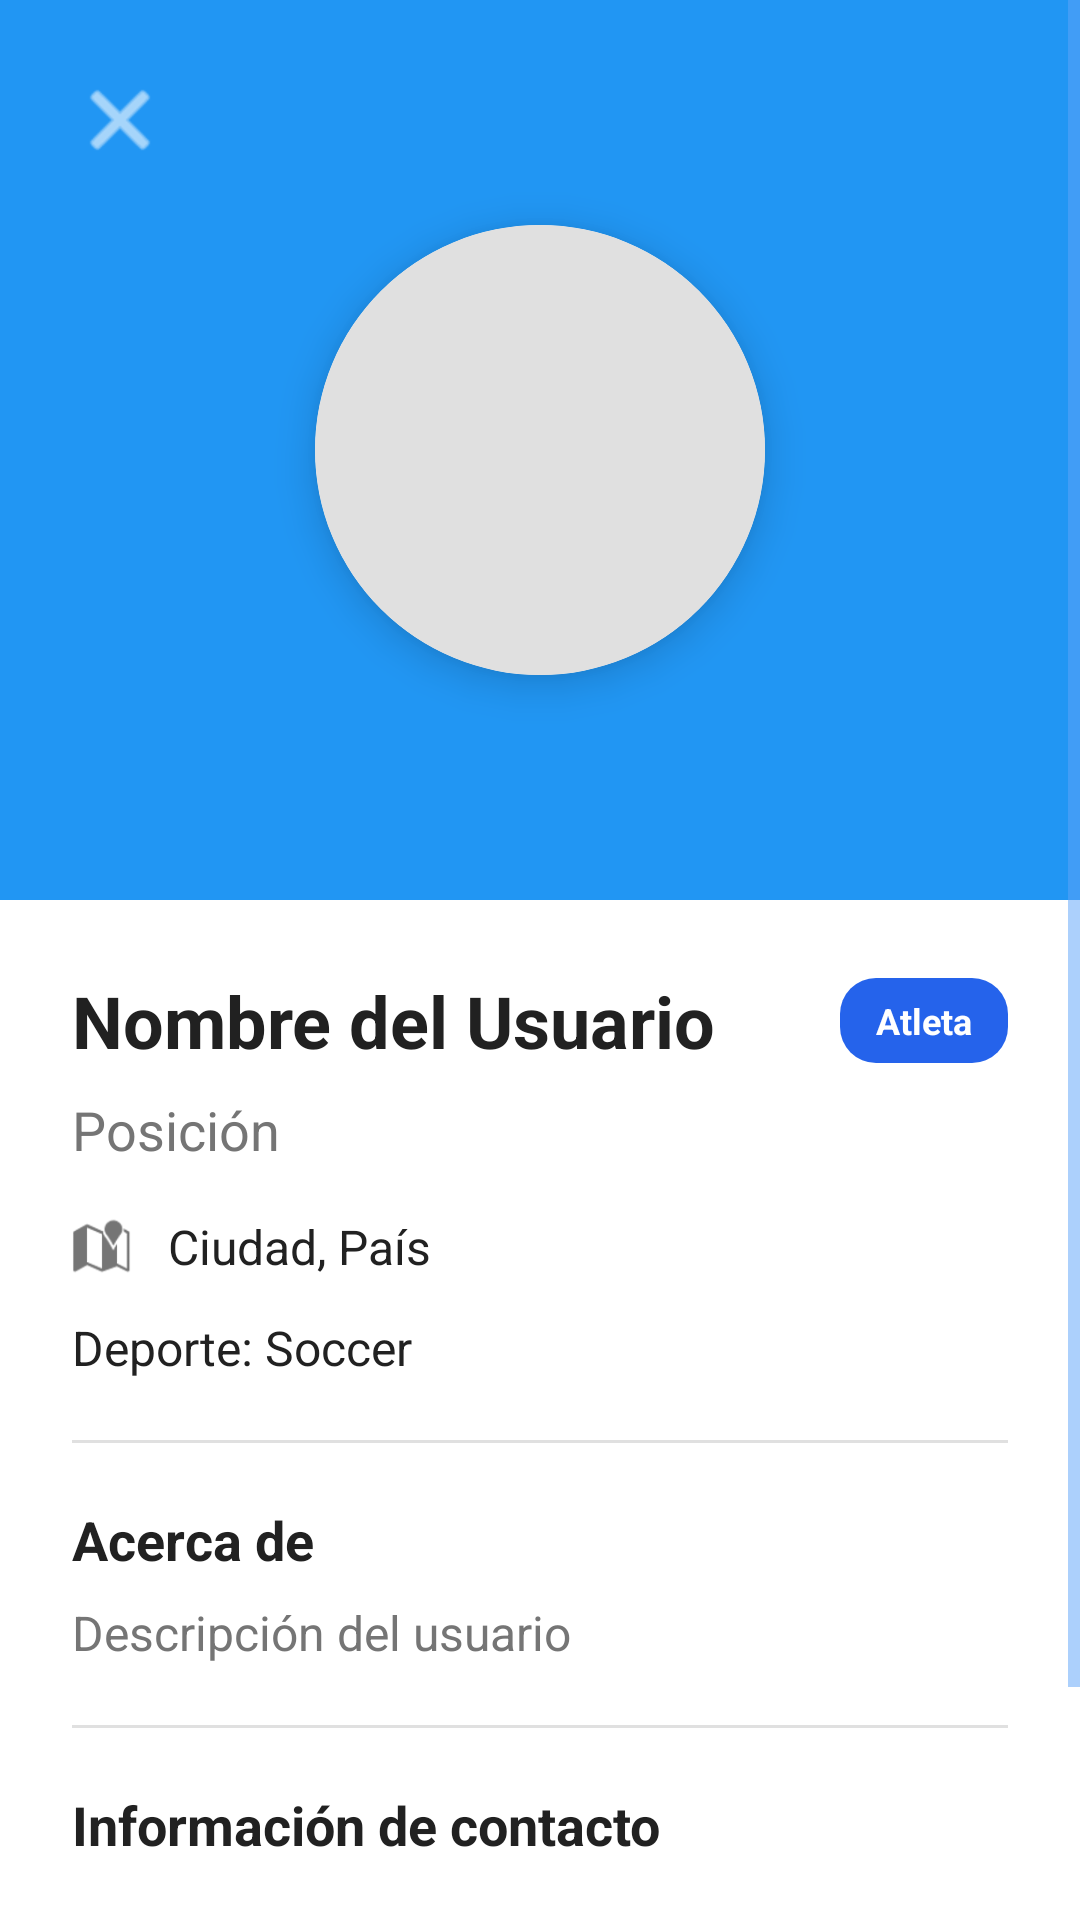

Where icons sit on this 1080px×1920px app screen, as region(x1, y1, x2, y2):
map: region(73, 1220, 130, 1272)
Volver: region(90, 90, 150, 150)
